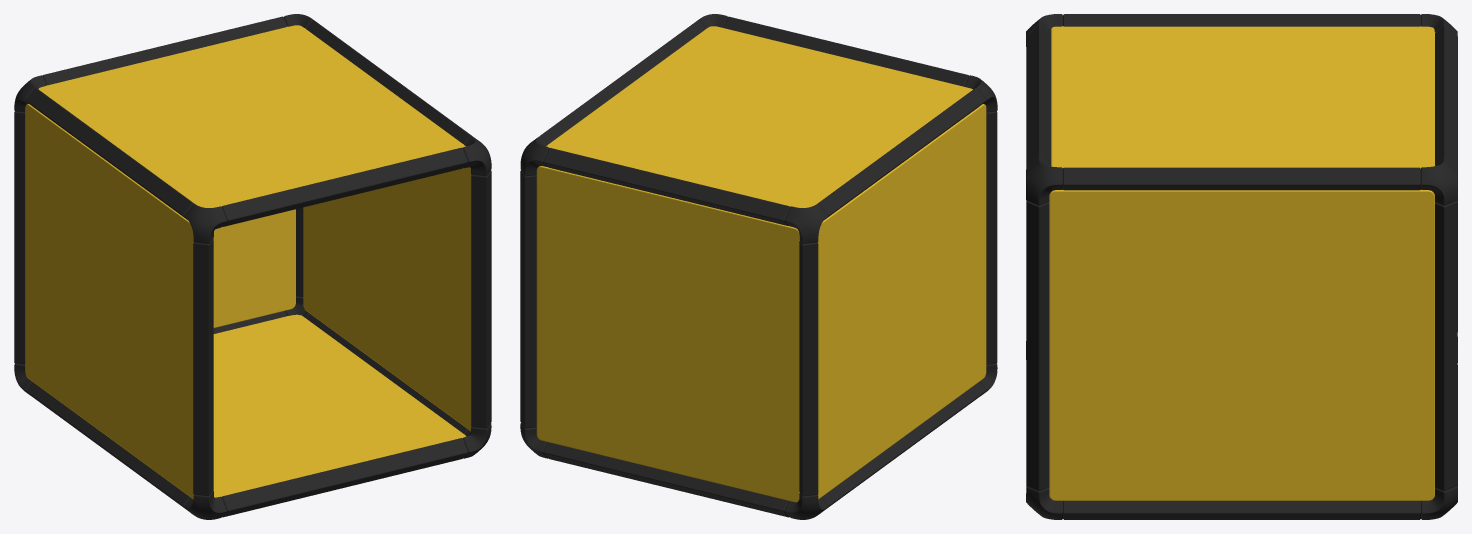
The picture shows the model from 3 angles, left to right: view 1: azimuth 30°, elevation 25°; view 2: azimuth 150°, elevation 25°; view 3: azimuth 270°, elevation 25°; orthographic projection. The views are drawn at different scales.
Visible parts, largest first — view 1: 329x374x329; view 2: 329x374x329; view 3: 329x374x329.
Boxes of the visible parts, <box> form: 329x374x329: <box>14,14,491,519</box>; 329x374x329: <box>520,14,997,519</box>; 329x374x329: <box>1026,14,1457,519</box>.
Size of the model in its own units: 0.4067 by 0.4066 by 0.4513.
